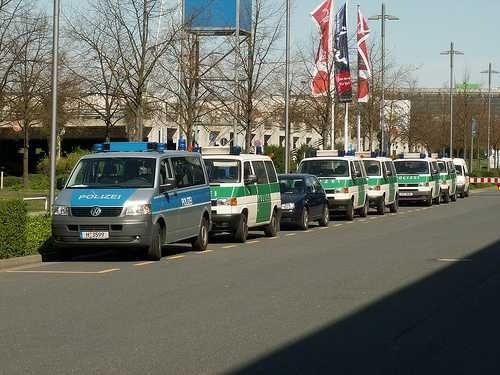Police Car: (57, 136, 209, 262)
Police Van: (197, 145, 280, 242), (294, 142, 369, 216), (395, 148, 437, 210), (351, 152, 395, 206), (438, 149, 459, 199)
